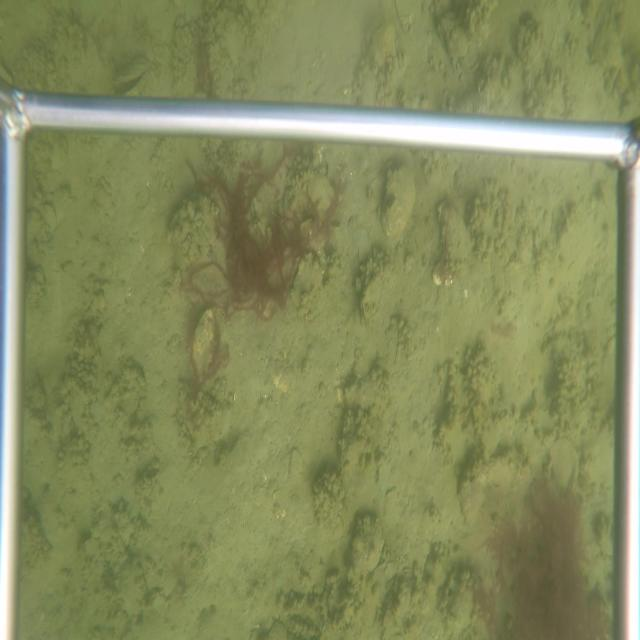Oyster-Closed: (359, 272, 384, 330)
Oyster-Indeterminate: (380, 162, 416, 240), (438, 197, 472, 272), (190, 308, 216, 386)
Oyster-Open: (113, 58, 150, 96)
